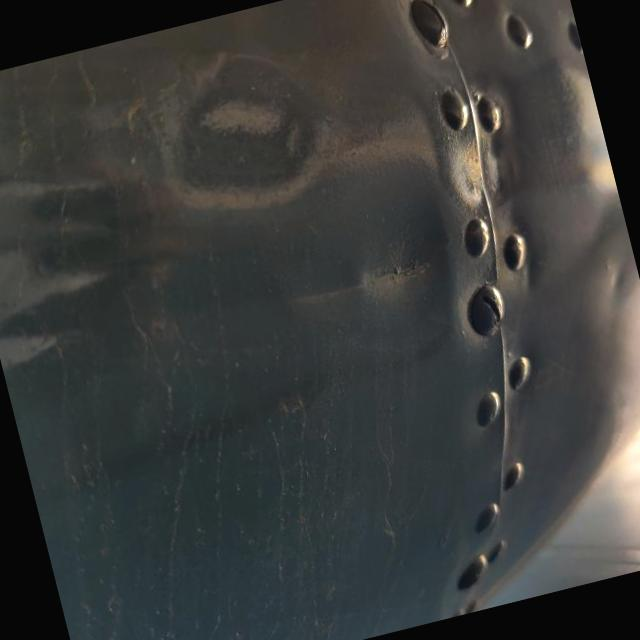dent: (136, 32, 336, 228), (414, 57, 542, 224), (316, 192, 464, 333)
